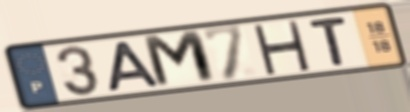3: (54, 44, 101, 97)
7: (200, 22, 248, 83)
A: (106, 39, 164, 94)
H: (250, 20, 313, 76)
M: (139, 28, 221, 91)
T: (306, 14, 350, 67)
